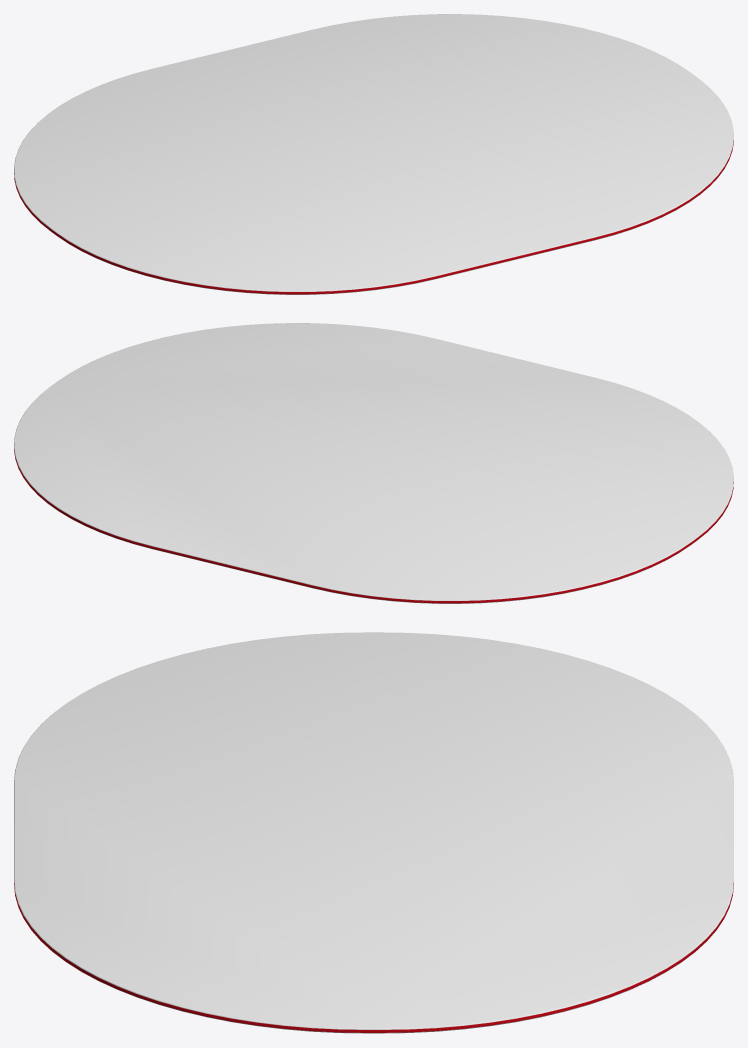
File: SM_Building_Ceiling_3.fbx
3 views of the same model, one above another, from view 1: azimuth 30°, elevation 25°; view 2: azimuth 150°, elevation 25°; view 3: azimuth 270°, elevation 25° (orthographic). The views are drawn at different scales.
Parts seen in each view (by area): view 1: SM_Building_Ceiling_3; view 2: SM_Building_Ceiling_3; view 3: SM_Building_Ceiling_3.
Part boxes in pixels (left/top/right/bottom): SM_Building_Ceiling_3: left=14, top=14, right=733, bottom=294; SM_Building_Ceiling_3: left=14, top=323, right=733, bottom=603; SM_Building_Ceiling_3: left=14, top=632, right=733, bottom=1033.
Bounding box in the file's own units: 26.09 × 0.15 × 20.
